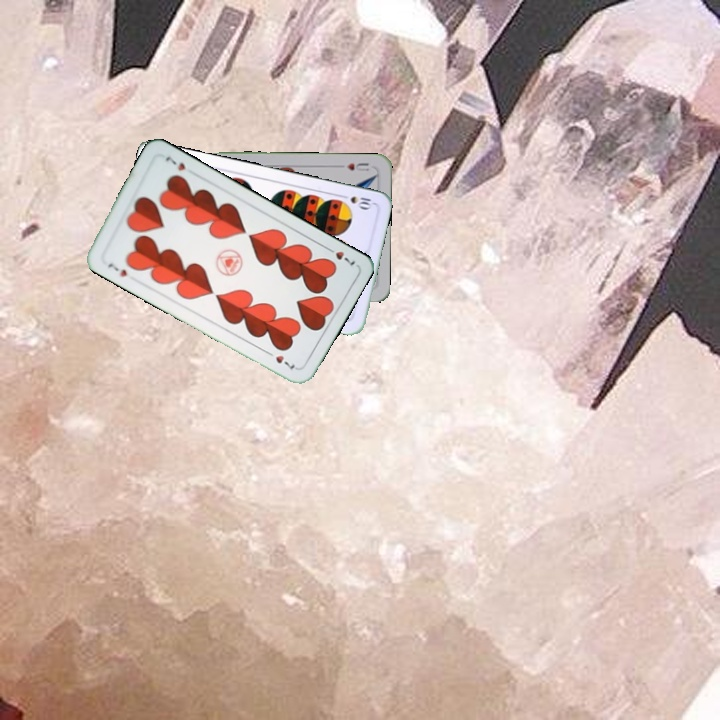H7: (321, 242, 358, 268), (104, 259, 130, 279)
HU: (335, 158, 372, 174)
S10: (335, 191, 376, 212)
